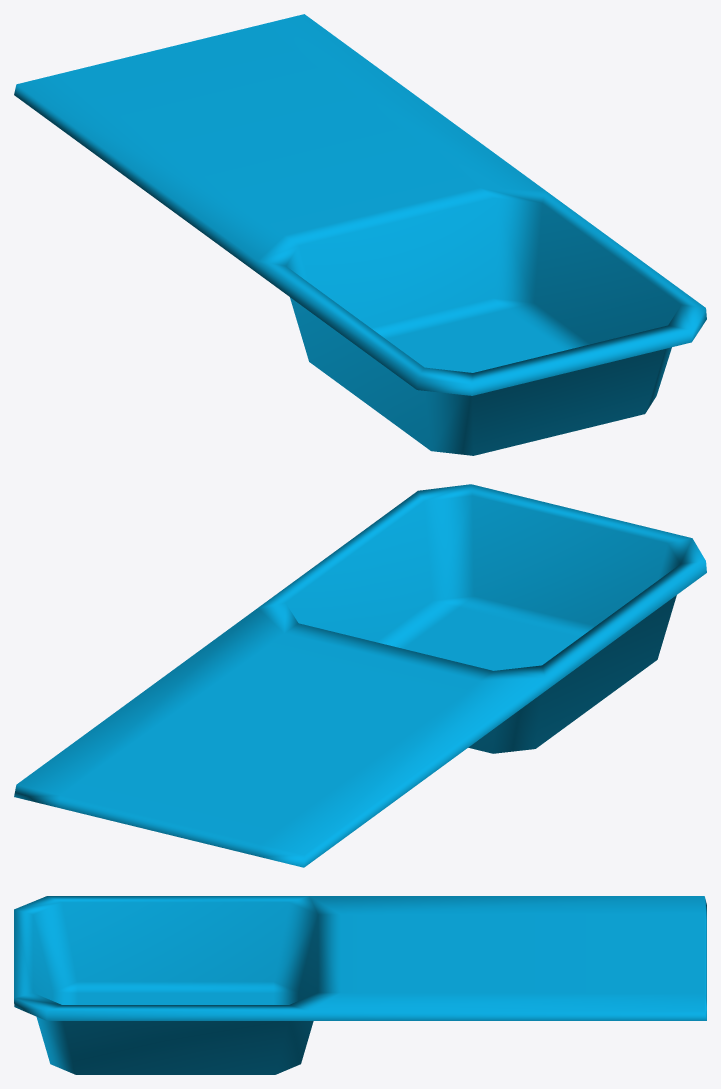
The model's file is Kitchen_Sink_02_Lod1.fbx.
3 views of the same model, one above another, from view 1: azimuth 30°, elevation 25°; view 2: azimuth 150°, elevation 25°; view 3: azimuth 270°, elevation 25° (orthographic). The views are drawn at different scales.
Visible parts, largest first — view 1: Kitchen_Sink_02_Lod1; view 2: Kitchen_Sink_02_Lod1; view 3: Kitchen_Sink_02_Lod1.
Part boxes in pixels (bbox=[...]): Kitchen_Sink_02_Lod1: bbox=[14, 14, 706, 455]; Kitchen_Sink_02_Lod1: bbox=[14, 484, 706, 867]; Kitchen_Sink_02_Lod1: bbox=[14, 896, 706, 1074].
Bounding box in the file's own units: 60.6 × 18.63 × 153.
